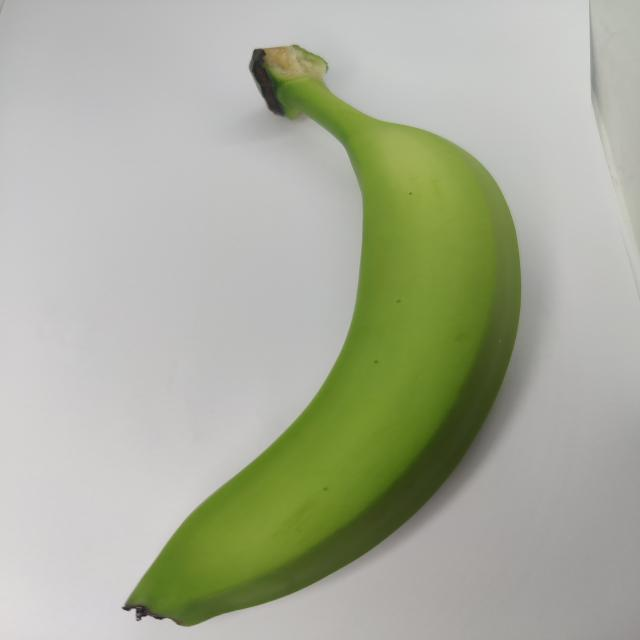raw: (90, 26, 532, 625)
